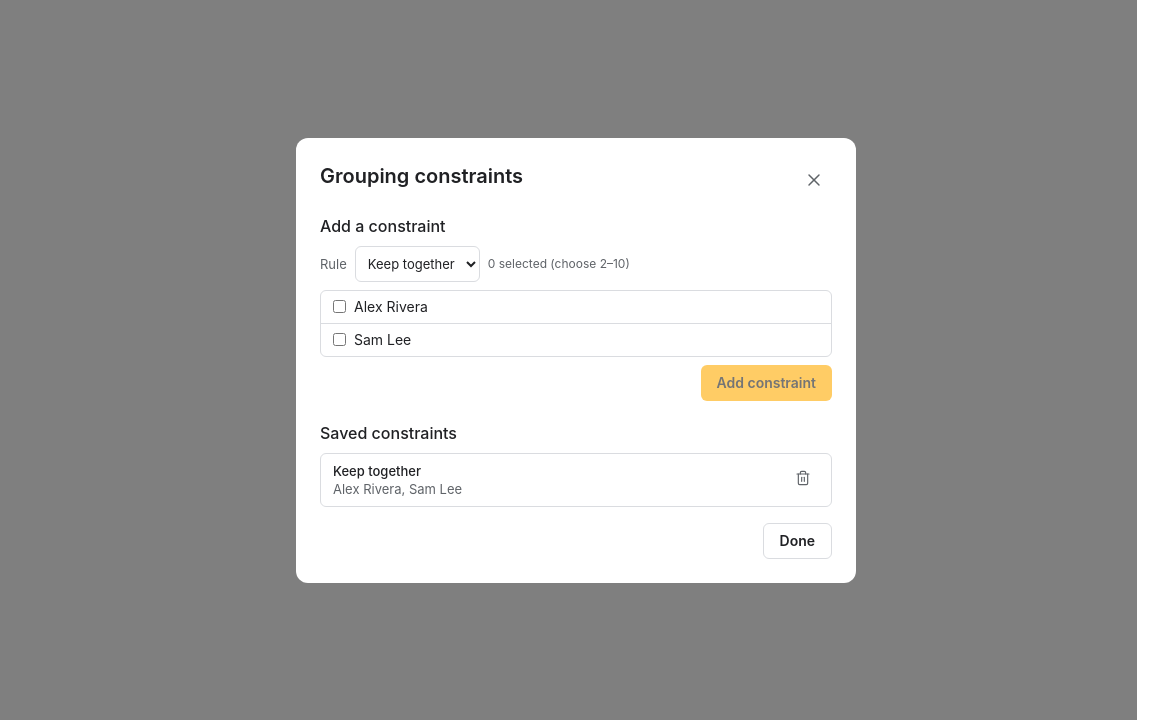
it: ConstraintsEditor › removes a constraint
Expected: the text "Alex Rivera, Sam Lee" is shown, [333,480,462,498]
Click the button named "Remove constraint".
click(803, 478)  # box [787,462,819,494]
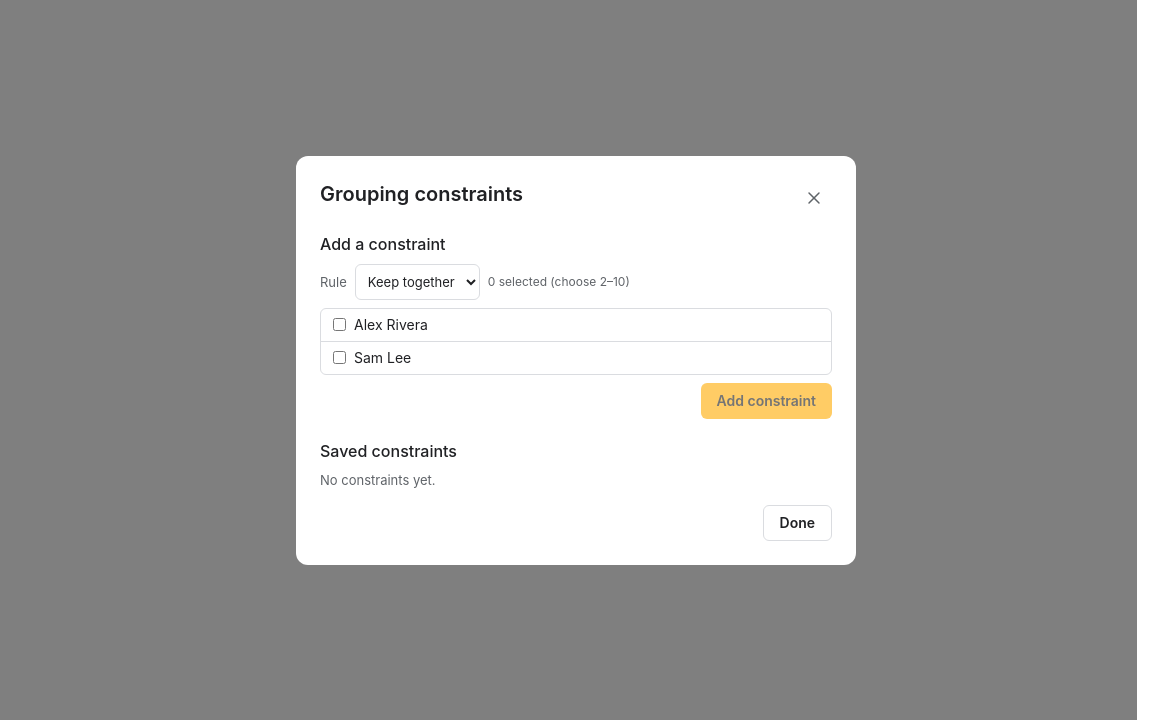
Now the text "No constraints yet." is shown, box [320,472,436,488]
